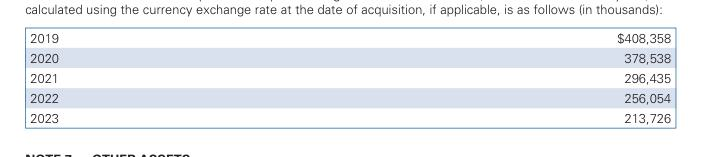table: (29, 29, 670, 125)
table column: (337, 29, 670, 125), (29, 29, 337, 125)
table row: (29, 47, 670, 67), (29, 67, 670, 87), (29, 87, 670, 107), (29, 29, 670, 47), (29, 107, 670, 125)
